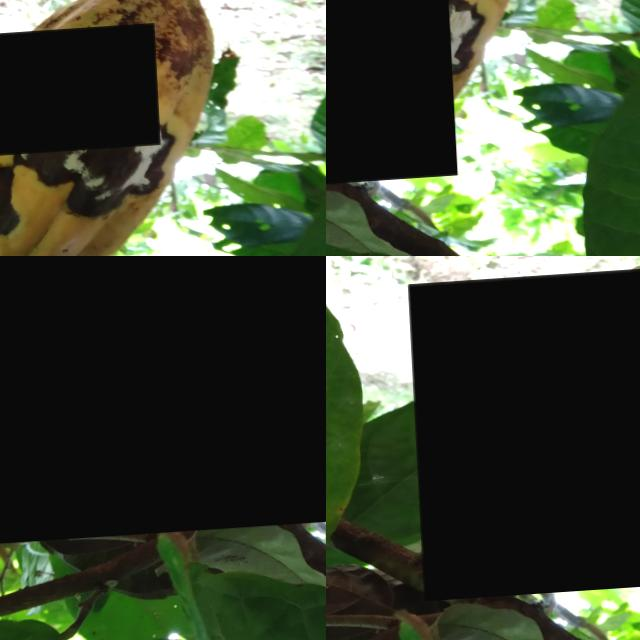Monilia: (406, 272, 640, 603), (0, 29, 156, 171)
Sana: (0, 256, 326, 544), (326, 0, 451, 193)
